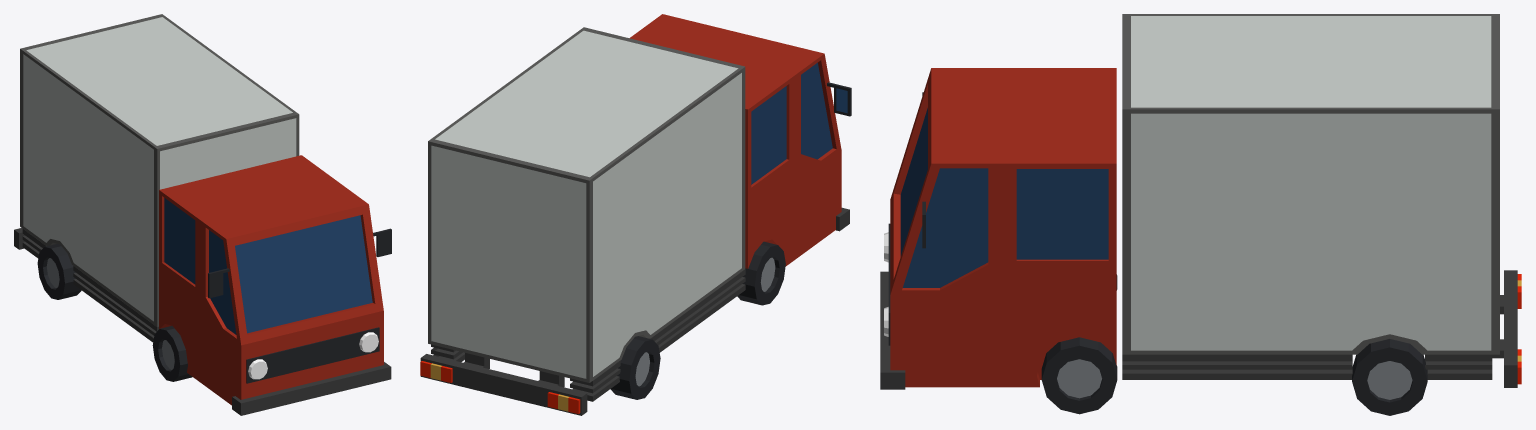
File: Truck_1.fbx
The picture shows the model from 3 angles, left to right: view 1: azimuth 30°, elevation 25°; view 2: azimuth 150°, elevation 25°; view 3: azimuth 270°, elevation 25°; orthographic projection. The views are drawn at different scales.
Visible parts, largest first — view 1: Truck_1, TruckBackWheels_1, TruckFrontWheels_1; view 2: Truck_1, TruckBackWheels_1, TruckFrontWheels_1; view 3: Truck_1, TruckFrontWheels_1, TruckBackWheels_1.
Part boxes in pixels (x1,y1,x2,y2): Truck_1: (14,14,391,415); TruckBackWheels_1: (37,244,81,299); TruckFrontWheels_1: (152,325,192,381); Truck_1: (420,14,851,415); TruckBackWheels_1: (610,336,660,399); TruckFrontWheels_1: (737,241,785,305); Truck_1: (880,14,1521,389); TruckFrontWheels_1: (1041,274,1117,414); TruckBackWheels_1: (1352,339,1427,415).
Size of the model in its own units: 227 by 259 by 500.
